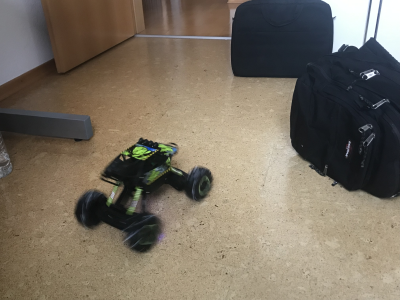remote control car: (68, 130, 213, 252)
